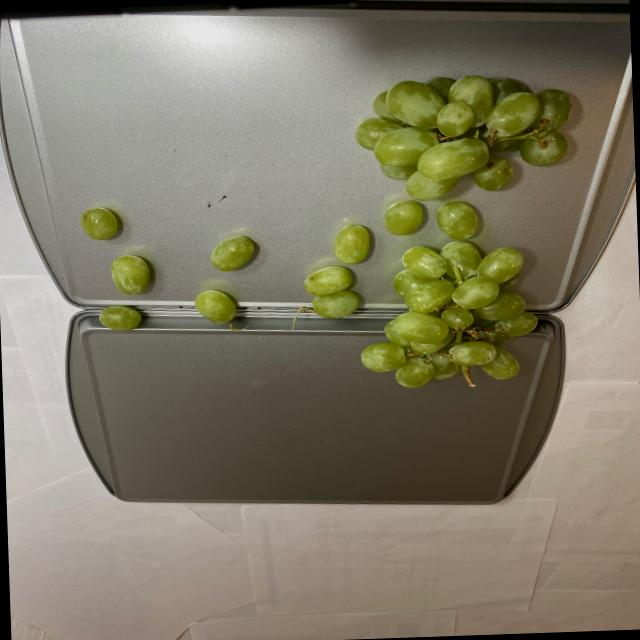grapes: (301, 74, 586, 393), (82, 210, 261, 334)
